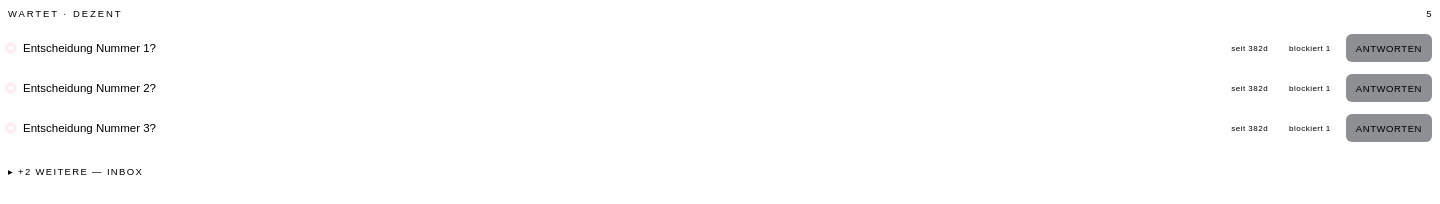
WartetPanel (echtes /api/pa/inbox-Format) › zeigt maximal 3 Zeilen dezent + Expand-Toggle zur Inbox-Ansicht
Expected: the text "Entscheidung Nummer 1?" is shown, [23, 42, 156, 54]
Expected: the number of elements with class "jv-qrow" is 3, [8, 28, 1432, 68]; [8, 68, 1432, 108]; [8, 108, 1432, 148]
Click the button "▸ +2 WEITERE — INBOX".
click(76, 171)  # box [8, 155, 143, 187]
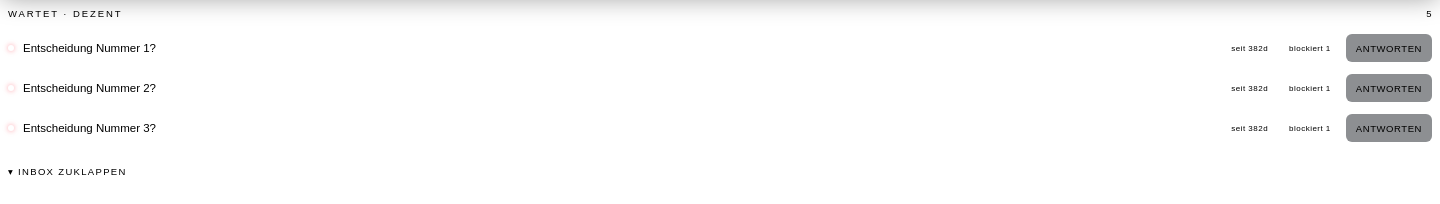
Expected: the button named "+2 WEITERE — INBOX" is expanded
Expected: the button named "+2 WEITERE — INBOX" shows "INBOX ZUKLAPPEN"
Click the button named "+2 WEITERE — INBOX".
click(67, 171)  # box [8, 155, 127, 187]
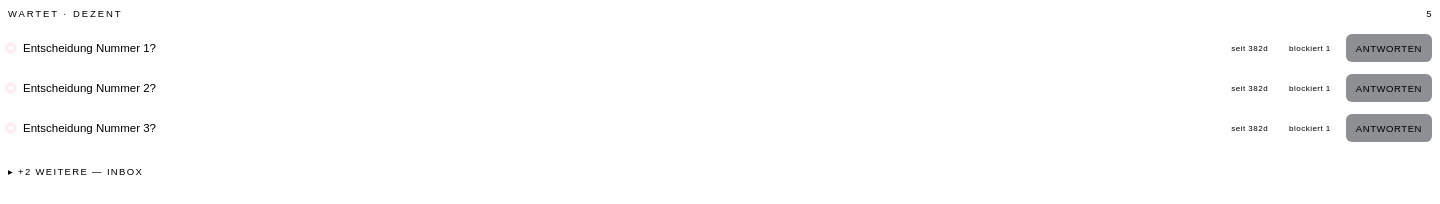
Expected: the dialog "WARTET AUF DICH" is gone
